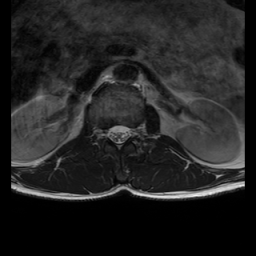CCS_normal: (115, 120, 121, 154)
LFS_normal: (130, 121, 136, 144)
LLS_normal: (122, 120, 129, 145)
RFS_normal: (101, 122, 108, 146)
RLS_normal: (108, 122, 115, 144)
